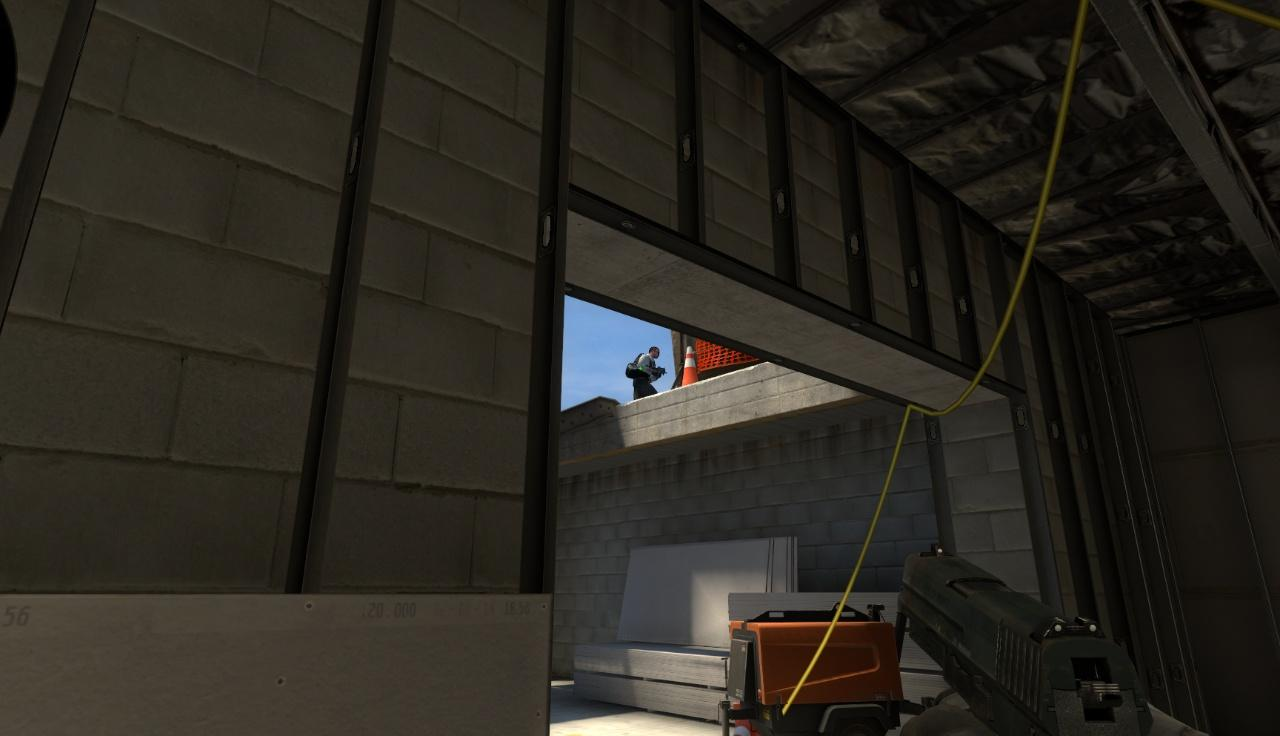pistol: (890, 545, 1167, 733)
tt: (626, 346, 664, 398)
tthead: (650, 346, 660, 358)
